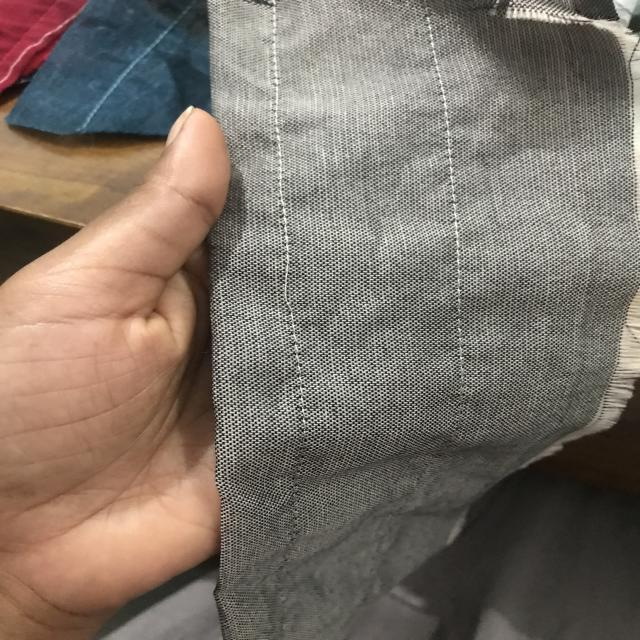good: (427, 111, 476, 288)
skip: (251, 245, 313, 323)
